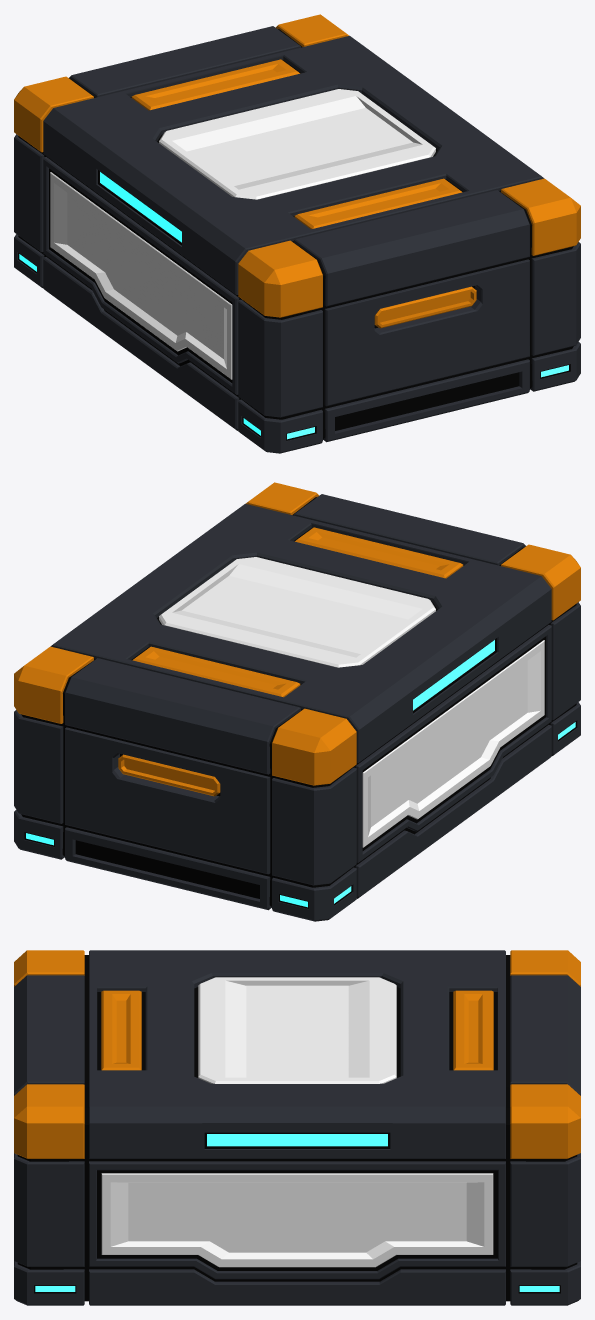
File: storage_crate.glb
3 views of the same model, one above another, from view 1: azimuth 30°, elevation 25°; view 2: azimuth 150°, elevation 25°; view 3: azimuth 270°, elevation 25° (orthographic). The views are drawn at different scales.
Parts seen in each view (by area): view 1: SM_Storage_Crate; view 2: SM_Storage_Crate; view 3: SM_Storage_Crate.
Part boxes in pixels (x1,y1,x2,y2): SM_Storage_Crate: [14, 14, 580, 453]; SM_Storage_Crate: [14, 482, 580, 921]; SM_Storage_Crate: [14, 950, 580, 1305].
Size of the model in its own units: 0.5027 by 0.2739 by 0.7215.
